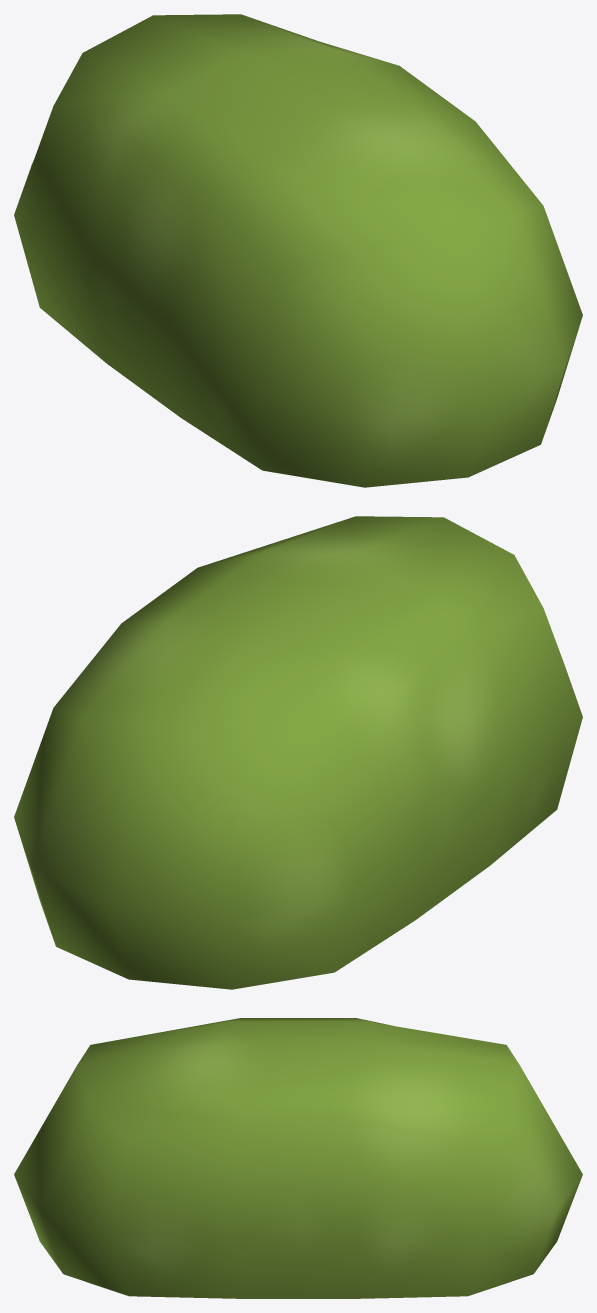
Rendered from Arbusto_1.fbx.
3 renders of one model, top to bottom at view 1: azimuth 30°, elevation 25°; view 2: azimuth 150°, elevation 25°; view 3: azimuth 270°, elevation 25°, orthographic. The views are drawn at different scales.
Parts seen in each view (by area): view 1: Arbusto_1; view 2: Arbusto_1; view 3: Arbusto_1.
Part boxes in pixels (x1,y1,x2,y2): Arbusto_1: [14, 14, 582, 487]; Arbusto_1: [14, 516, 582, 989]; Arbusto_1: [14, 1018, 582, 1298].
Bounding box in the file's own units: 37.66 × 27.51 × 71.7.
